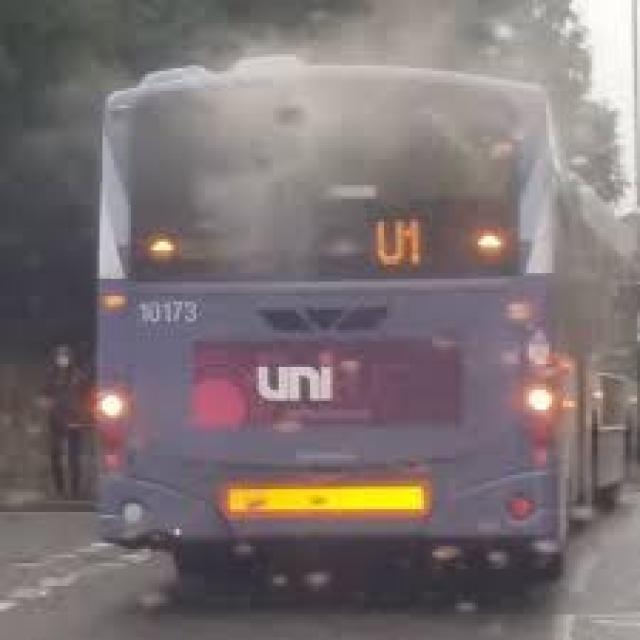Smoke: (10, 2, 602, 236)
